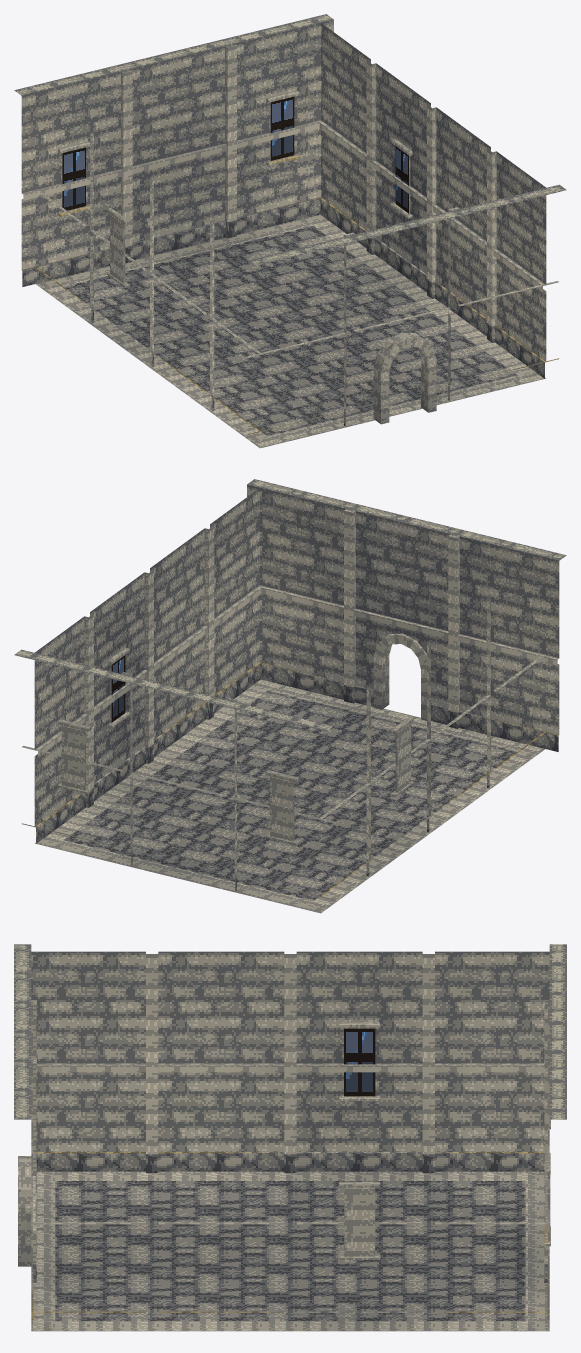
File: cst.hall__throne.glb
3 renders of one model, top to bottom at view 1: azimuth 30°, elevation 25°; view 2: azimuth 150°, elevation 25°; view 3: azimuth 270°, elevation 25°, orthographic. The views are drawn at different scales.
Parts seen in each view (by area): view 1: kit_shell_walls, kit_shell_floor, kit_fittings; view 2: kit_shell_walls, kit_shell_floor, kit_fittings; view 3: kit_shell_walls, kit_shell_floor, kit_fittings.
Part boxes in pixels (x1,y1,x2,y2): kit_shell_walls: [14, 14, 566, 434]; kit_shell_floor: [36, 214, 545, 448]; kit_fittings: [58, 90, 436, 424]; kit_shell_walls: [14, 479, 566, 899]; kit_shell_floor: [35, 679, 544, 913]; kit_fittings: [57, 633, 426, 845]; kit_shell_walls: [14, 944, 566, 1319]; kit_shell_floor: [31, 1171, 549, 1331]; kit_fittings: [18, 1022, 550, 1266].
Bounding box in the file's own units: 12 × 7 × 16.
5 materials, 5 textured.
